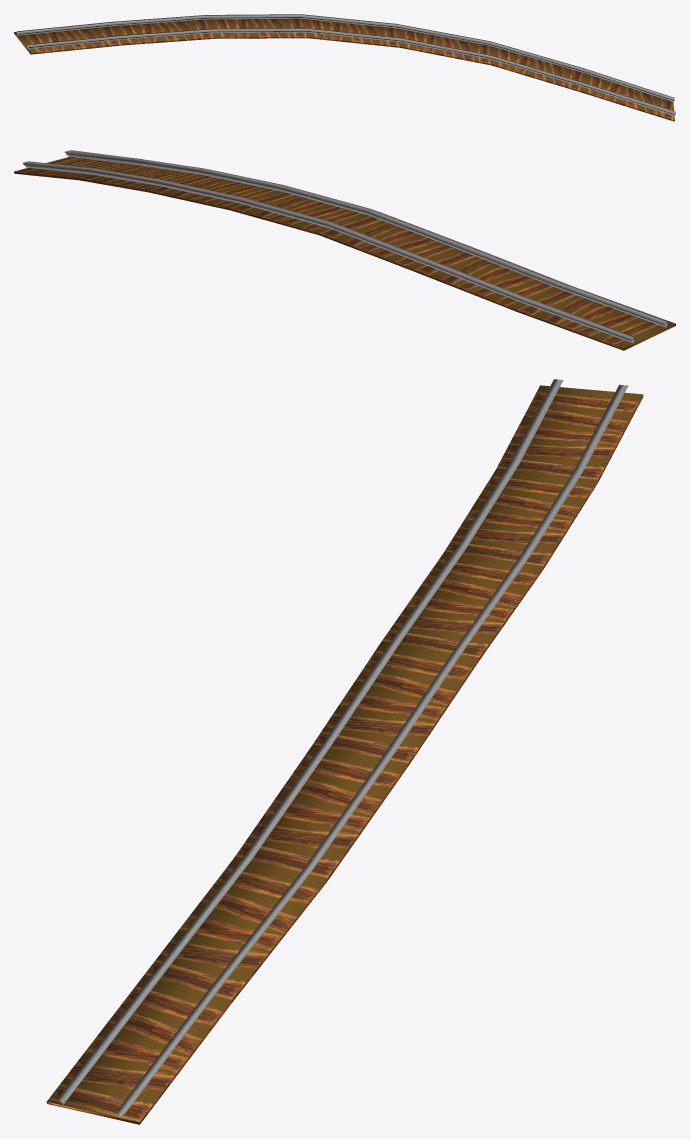
File: SWORDLIGHT20_MAIN1RAILS1CENTER.fbx
The picture shows the model from 3 angles, top to bottom: view 1: azimuth 30°, elevation 25°; view 2: azimuth 150°, elevation 25°; view 3: azimuth 270°, elevation 25°; orthographic projection. The views are drawn at different scales.
Visible parts, largest first — view 1: SWORDLIGHT20_MAIN1RAILS1CENTER; view 2: SWORDLIGHT20_MAIN1RAILS1CENTER; view 3: SWORDLIGHT20_MAIN1RAILS1CENTER.
Part boxes in pixels (x1,y1,x2,y2): SWORDLIGHT20_MAIN1RAILS1CENTER: (14, 14, 675, 121); SWORDLIGHT20_MAIN1RAILS1CENTER: (14, 150, 675, 350); SWORDLIGHT20_MAIN1RAILS1CENTER: (46, 379, 643, 1124).
Bounding box in the file's own units: 193351 × 37180 × 92120.
2 materials, 2 textured.
